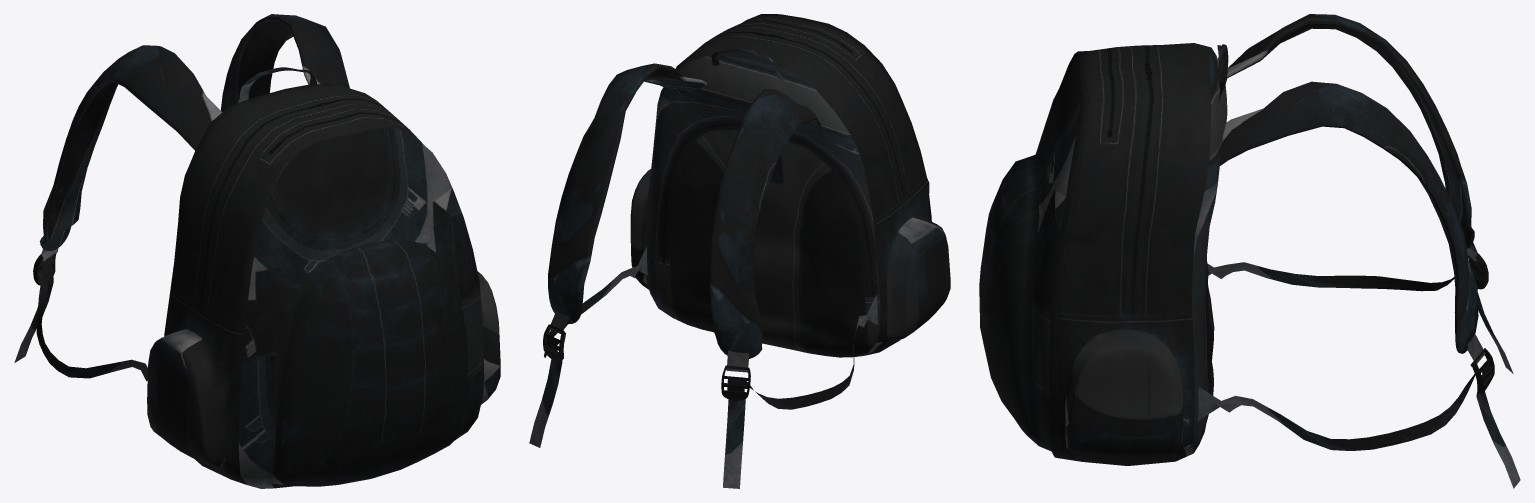
File: backpack.obj
3 views of the same model, side by side, from view 1: azimuth 30°, elevation 25°; view 2: azimuth 150°, elevation 25°; view 3: azimuth 270°, elevation 25° (orthographic). The views are drawn at different scales.
Parts seen in each view (by area): view 1: Backpack.rip; view 2: Backpack.rip; view 3: Backpack.rip.
Part boxes in pixels (<box>): Backpack.rip: <box>14,14,500,488</box>; Backpack.rip: <box>529,14,950,488</box>; Backpack.rip: <box>979,14,1520,488</box>.
Bounding box in the file's own units: 1.02 × 1.12 × 1.43.
